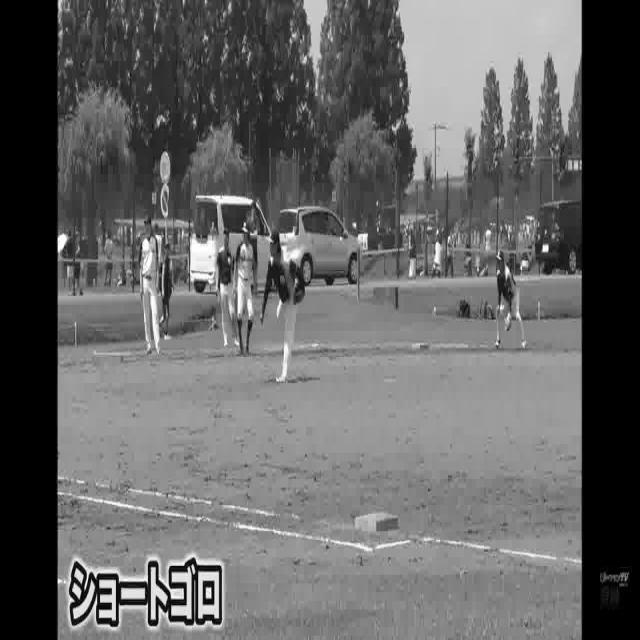base: (351, 509, 401, 534)
baseball_glove: (294, 277, 306, 309), (504, 314, 514, 332)
shoe: (277, 374, 290, 386), (521, 338, 529, 354), (493, 338, 502, 352)
